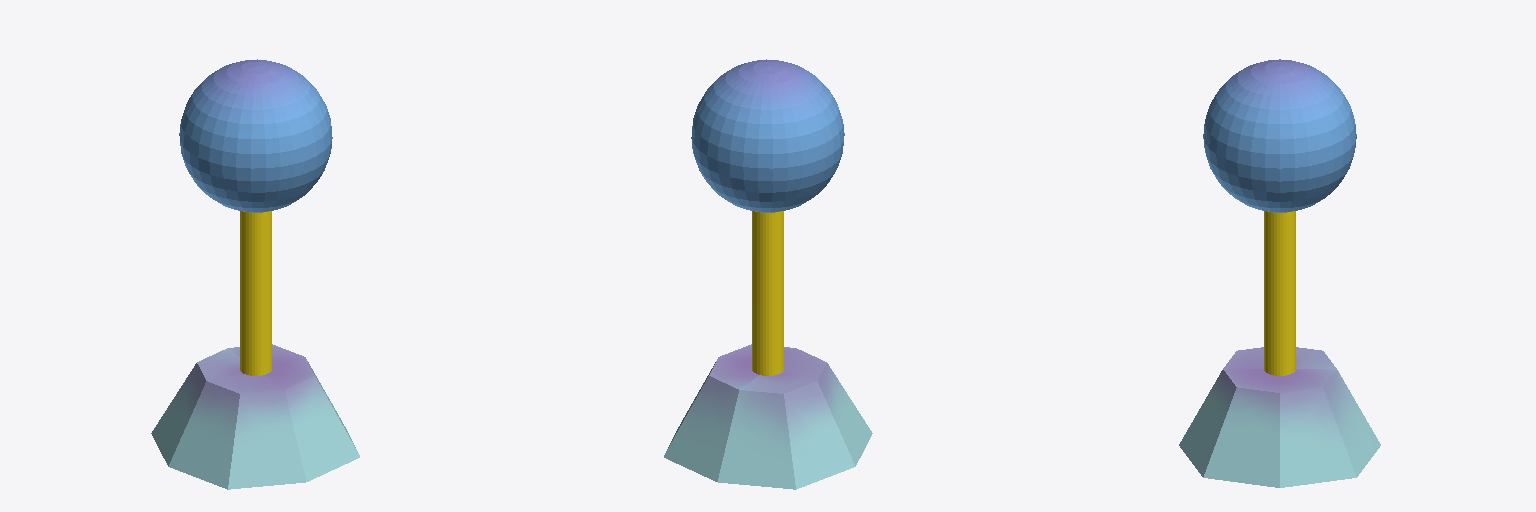
3 views of the same model, side by side, from view 1: azimuth 30°, elevation 25°; view 2: azimuth 150°, elevation 25°; view 3: azimuth 270°, elevation 25° (orthographic).
Visible parts, largest first — view 1: 円柱; view 2: 円柱; view 3: 円柱.
Part boxes in pixels (x1,y1,x2,y2): 円柱: (151,59,359,489); 円柱: (664,59,872,489); 円柱: (1179,59,1380,487).
Size of the model in its own units: 2.64 by 5.44 by 2.64.
1 materials, 1 textured.